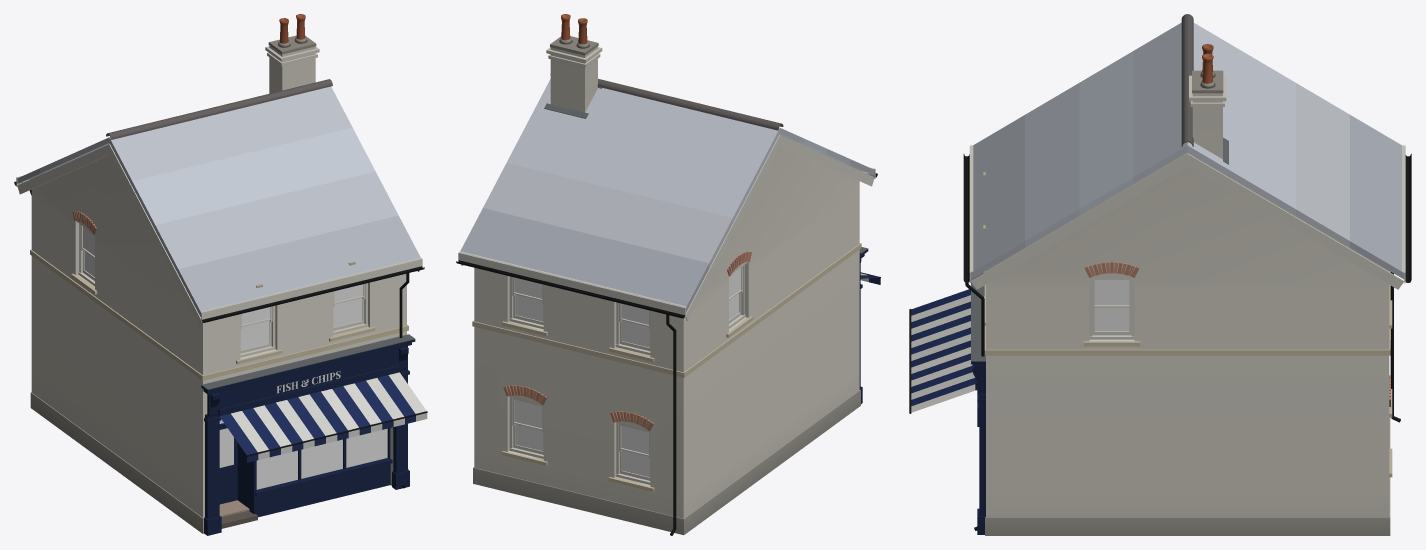
The model's file is town_chip_shop_a_lod1.glb.
3 renders of one model, left to right at view 1: azimuth 30°, elevation 25°; view 2: azimuth 150°, elevation 25°; view 3: azimuth 270°, elevation 25°, orthographic. The views are drawn at different scales.
Visible parts, largest first — view 1: body; view 2: body; view 3: body.
Part boxes in pixels (box(x1,y1,x2,y2)): body: box(14, 14, 427, 535); body: box(456, 14, 880, 535); body: box(909, 14, 1411, 535).
Size of what is drawn, in the model's own units: 5.98 by 10.35 by 9.96.
